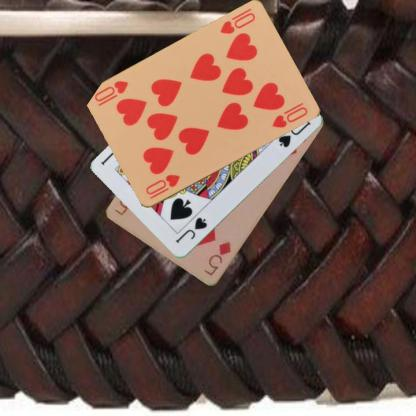10h: (143, 172, 181, 200), (217, 10, 257, 36)
5d: (200, 239, 232, 278)
Js: (172, 214, 209, 245)
